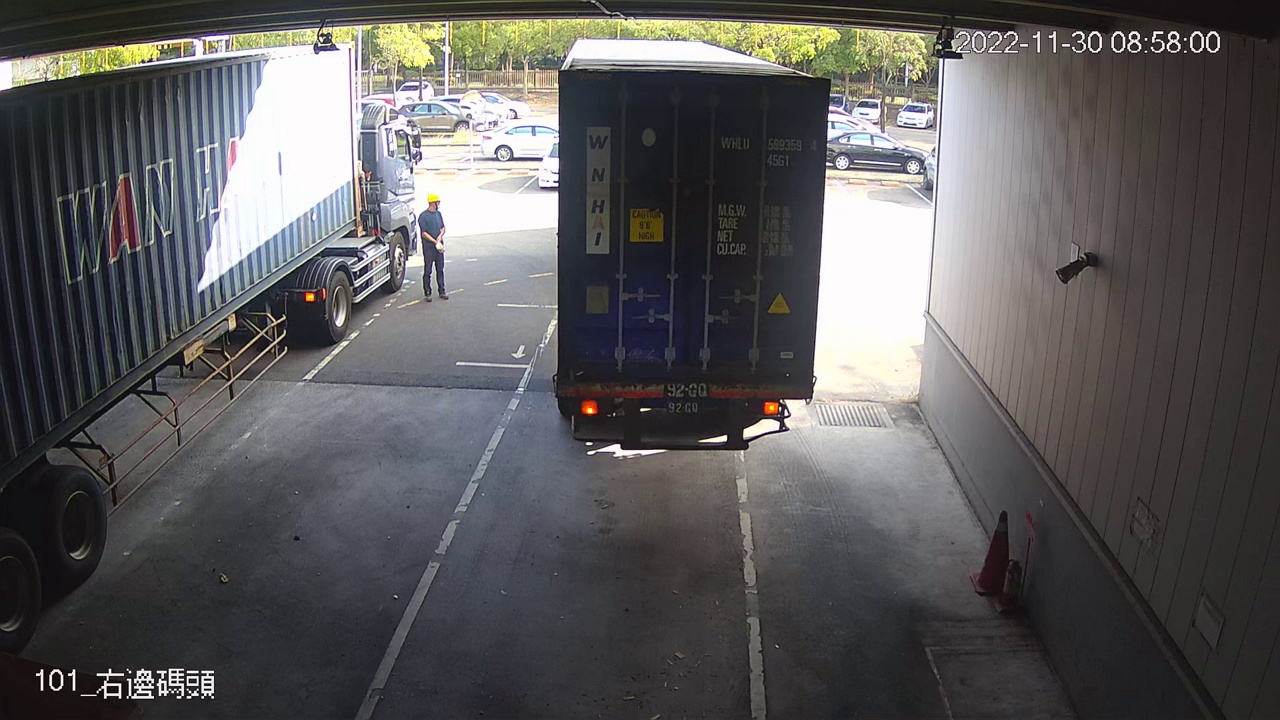container: (717, 130, 822, 172)
